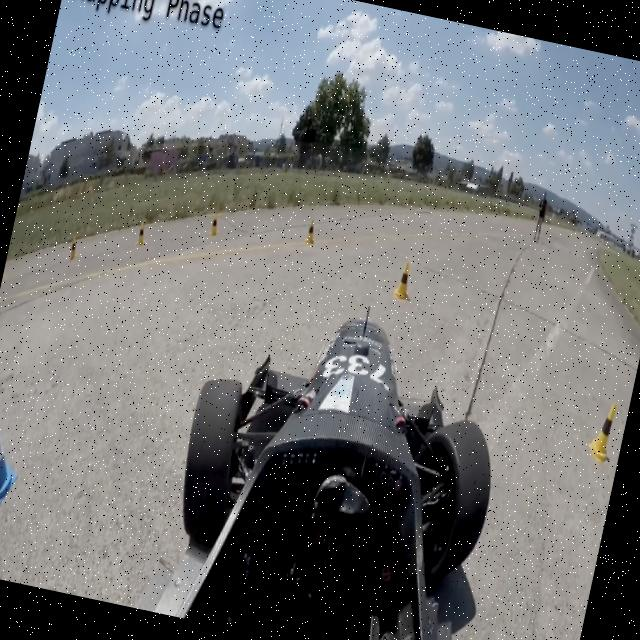blue_cone: (0, 406, 35, 521)
yellow_cone: (584, 394, 622, 466), (392, 256, 416, 302), (302, 215, 320, 247), (134, 222, 150, 250), (65, 235, 81, 262), (208, 212, 222, 238), (0, 260, 8, 284)
